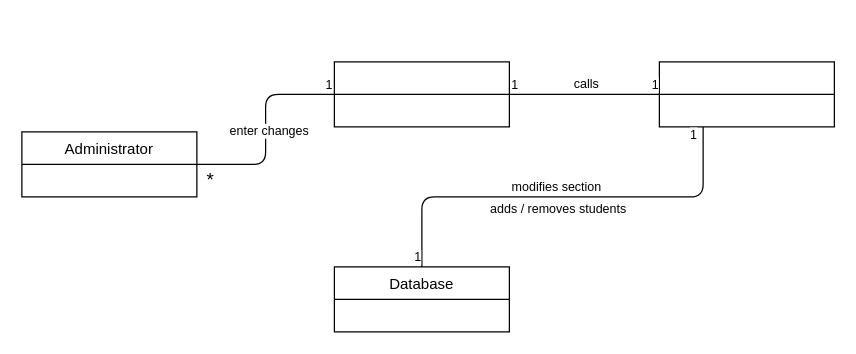
This 856x354 diagram has some shape labels left out. The centre of each missing label's shape, as x and y in pixels:
"API" goes at [746,94].
"UI" goes at [421,94].
